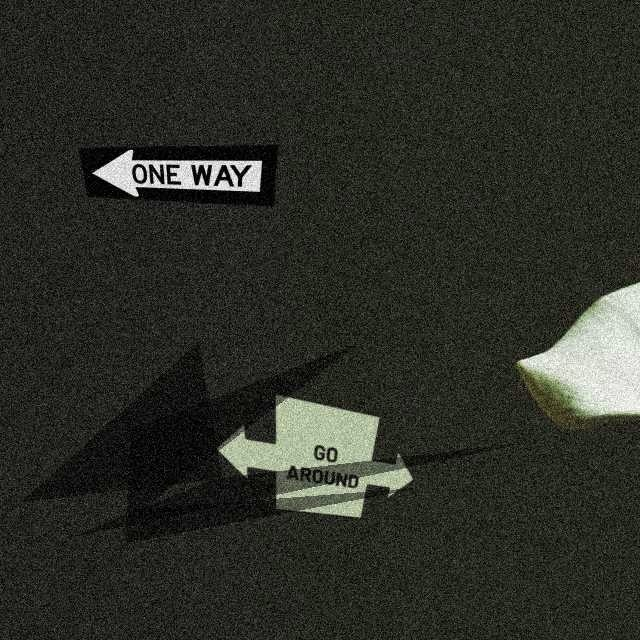GO_AROUND: (214, 392, 415, 519)
ONE_WAY_ left: (78, 144, 279, 207)
